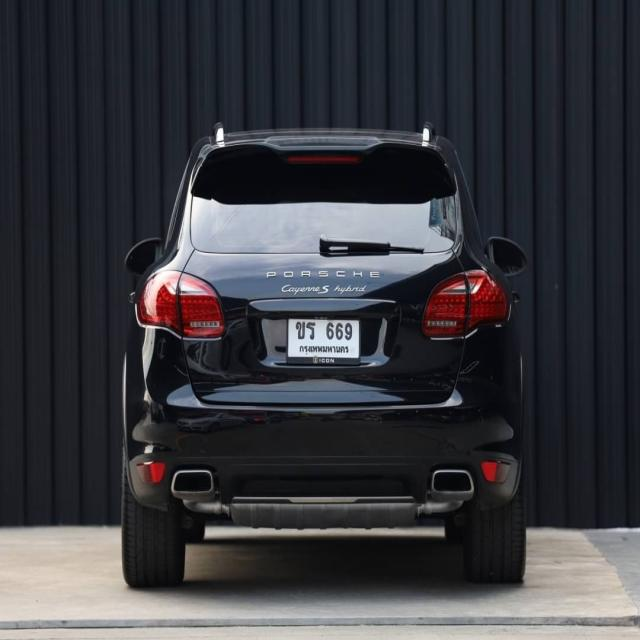license_plate: (286, 315, 361, 368)
